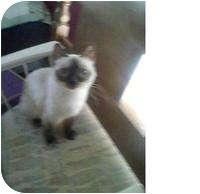siamese: (50, 43, 100, 93)
